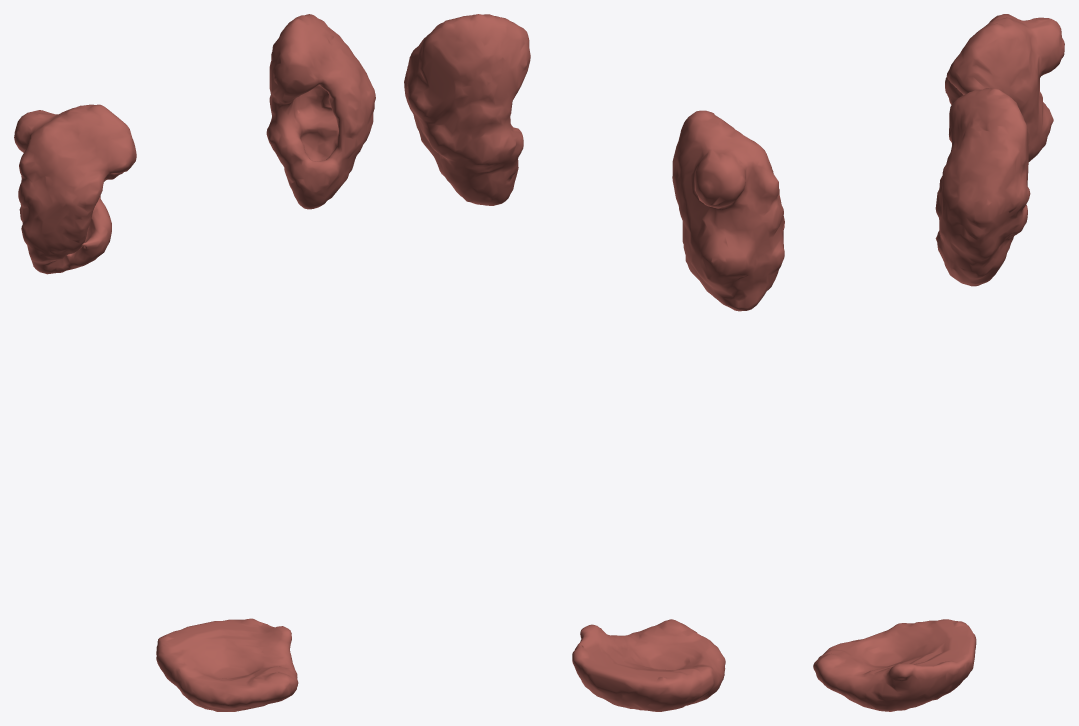
File: tsd_s0327_older_adult_male.urinary.LOD1.glb
3 renders of one model, left to right at view 1: azimuth 30°, elevation 25°; view 2: azimuth 150°, elevation 25°; view 3: azimuth 270°, elevation 25°, orthographic. The views are drawn at different scales.
Parts seen in each view (by area): view 1: TSD_S0327.OLDER_ADULT.MALE.URINARY.KIDNEY.R, TSD_S0327.OLDER_ADULT.MALE.URINARY.KIDNEY.L, TSD_S0327.OLDER_ADULT.MALE.URINARY.URINARY_BLADDER; view 2: TSD_S0327.OLDER_ADULT.MALE.URINARY.KIDNEY.L, TSD_S0327.OLDER_ADULT.MALE.URINARY.KIDNEY.R, TSD_S0327.OLDER_ADULT.MALE.URINARY.URINARY_BLADDER; view 3: TSD_S0327.OLDER_ADULT.MALE.URINARY.KIDNEY.L, TSD_S0327.OLDER_ADULT.MALE.URINARY.URINARY_BLADDER, TSD_S0327.OLDER_ADULT.MALE.URINARY.KIDNEY.R.
Boxes of the visible parts, x1,y1,x2,y2 form: TSD_S0327.OLDER_ADULT.MALE.URINARY.KIDNEY.R: (14, 104, 136, 274); TSD_S0327.OLDER_ADULT.MALE.URINARY.KIDNEY.L: (266, 14, 375, 209); TSD_S0327.OLDER_ADULT.MALE.URINARY.URINARY_BLADDER: (156, 618, 298, 711); TSD_S0327.OLDER_ADULT.MALE.URINARY.KIDNEY.L: (404, 14, 530, 205); TSD_S0327.OLDER_ADULT.MALE.URINARY.KIDNEY.R: (672, 110, 784, 311); TSD_S0327.OLDER_ADULT.MALE.URINARY.URINARY_BLADDER: (572, 619, 725, 711); TSD_S0327.OLDER_ADULT.MALE.URINARY.KIDNEY.L: (935, 88, 1030, 286); TSD_S0327.OLDER_ADULT.MALE.URINARY.URINARY_BLADDER: (813, 619, 976, 711); TSD_S0327.OLDER_ADULT.MALE.URINARY.KIDNEY.R: (945, 14, 1064, 161).
Bounding box in the file's own units: 0.1818 × 0.3168 × 0.1084.
